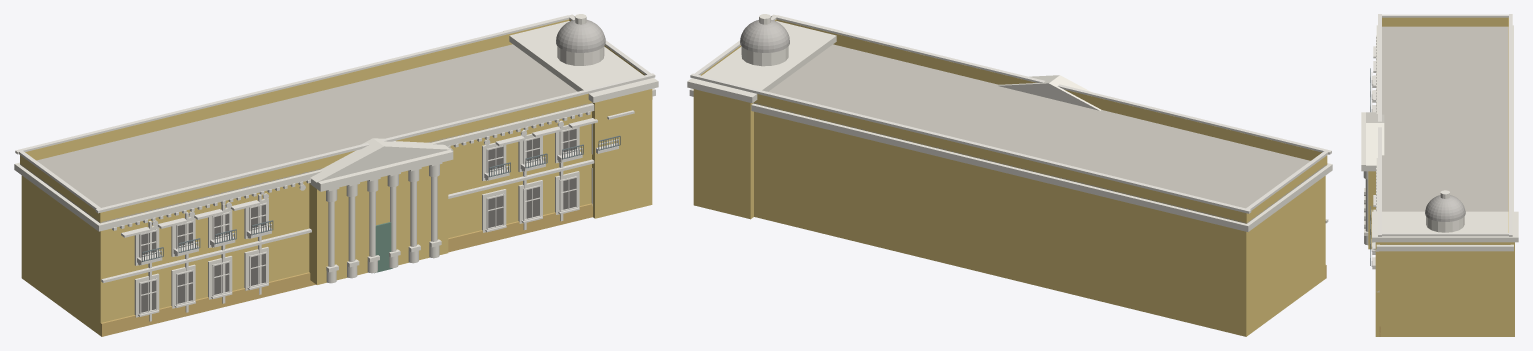
Rendered from antigua-aduana.glb.
3 views of the same model, side by side, from view 1: azimuth 30°, elevation 25°; view 2: azimuth 150°, elevation 25°; view 3: azimuth 270°, elevation 25° (orthographic). The views are drawn at different scales.
Parts seen in each view (by area): view 1: antigua-aduana · Parapeto continuo, antigua-aduana · Cuerpo largo de dos plantas, antigua-aduana · Pórtico central, antigua-aduana · Pabellón de esquina, antigua-aduana · Muro de Parapeto continuo, antigua-aduana · Zócalo corrido, antigua-aduana · Muro de Parapeto continuo (3), antigua-aduana · Cornisa del pabellón, antigua-aduana · Cornisa continua, antigua-aduana · Albardilla longitudinal (2), antigua-aduana · Albardilla longitudinal, antigua-aduana · Frontón bajo del pórtico (+23 smaller); view 2: antigua-aduana · Cuerpo largo de dos plantas, antigua-aduana · Parapeto continuo, antigua-aduana · Pabellón de esquina, antigua-aduana · Muro de Parapeto continuo, antigua-aduana · Cornisa continua, antigua-aduana · Muro de Parapeto continuo (3), antigua-aduana · Cornisa del pabellón, antigua-aduana · Albardilla longitudinal, antigua-aduana · Albardilla longitudinal (2), antigua-aduana · Frontón bajo del pórtico, antigua-aduana · Cúpula documentada, antigua-aduana · Muro de Parapeto continuo (2) (+2 smaller); view 3: antigua-aduana · Parapeto continuo, antigua-aduana · Cuerpo largo de dos plantas, antigua-aduana · Pabellón de esquina, antigua-aduana · Cornisa del pabellón, antigua-aduana · Cornisa continua, antigua-aduana · Muro de Parapeto continuo (2), antigua-aduana · Albardilla longitudinal, antigua-aduana · Cúpula documentada, antigua-aduana · Albardilla longitudinal (2), antigua-aduana · Frontón bajo del pórtico, antigua-aduana · Albardilla transversal, antigua-aduana · Albardilla transversal (2) (+6 smaller).
Part boxes in pixels (bbox=[...]): antigua-aduana · Parapeto continuo: bbox=[20, 44, 592, 222]; antigua-aduana · Cuerpo largo de dos plantas: bbox=[21, 111, 591, 335]; antigua-aduana · Pórtico central: bbox=[309, 161, 448, 284]; antigua-aduana · Pabellón de esquina: bbox=[592, 89, 652, 218]; antigua-aduana · Muro de Parapeto continuo: bbox=[20, 19, 569, 163]; antigua-aduana · Zócalo corrido: bbox=[100, 203, 592, 336]; antigua-aduana · Muro de Parapeto continuo (3): bbox=[99, 93, 592, 223]; antigua-aduana · Cornisa del pabellón: bbox=[503, 15, 658, 102]; antigua-aduana · Cornisa continua: bbox=[14, 88, 655, 231]; antigua-aduana · Albardilla longitudinal (2): bbox=[95, 73, 655, 213]; antigua-aduana · Albardilla longitudinal: bbox=[15, 14, 574, 154]; antigua-aduana · Frontón bajo del pórtico: bbox=[310, 138, 450, 182]; antigua-aduana · Cuerpo largo de dos plantas: bbox=[754, 111, 1325, 336]; antigua-aduana · Parapeto continuo: bbox=[753, 44, 1326, 223]; antigua-aduana · Pabellón de esquina: bbox=[693, 89, 753, 219]; antigua-aduana · Muro de Parapeto continuo: bbox=[753, 94, 1247, 223]; antigua-aduana · Cornisa continua: bbox=[689, 88, 1332, 231]; antigua-aduana · Muro de Parapeto continuo (3): bbox=[776, 19, 1327, 165]; antigua-aduana · Cornisa del pabellón: bbox=[687, 15, 842, 103]; antigua-aduana · Albardilla longitudinal: bbox=[690, 73, 1251, 213]; antigua-aduana · Albardilla longitudinal (2): bbox=[771, 14, 1331, 154]; antigua-aduana · Frontón bajo del pórtico: bbox=[998, 75, 1101, 110]; antigua-aduana · Cúpula documentada: bbox=[740, 20, 789, 52]; antigua-aduana · Muro de Parapeto continuo (2): bbox=[1246, 156, 1327, 223]; antigua-aduana · Parapeto continuo: bbox=[1382, 26, 1508, 244]; antigua-aduana · Cuerpo largo de dos plantas: bbox=[1381, 251, 1509, 336]; antigua-aduana · Pabellón de esquina: bbox=[1375, 242, 1514, 336]; antigua-aduana · Cornisa del pabellón: bbox=[1372, 211, 1518, 242]; antigua-aduana · Cornisa continua: bbox=[1376, 25, 1513, 251]; antigua-aduana · Muro de Parapeto continuo (2): bbox=[1382, 17, 1508, 26]; antigua-aduana · Albardilla longitudinal: bbox=[1509, 14, 1512, 236]; antigua-aduana · Cúpula documentada: bbox=[1425, 195, 1465, 221]; antigua-aduana · Albardilla longitudinal (2): bbox=[1378, 14, 1381, 236]; antigua-aduana · Frontón bajo del pórtico: bbox=[1366, 112, 1384, 165]; antigua-aduana · Albardilla transversal: bbox=[1380, 14, 1509, 17]; antigua-aduana · Albardilla transversal (2): bbox=[1381, 233, 1508, 236].
Bounding box in the file's own units: 48.8 × 13.73 × 14.7.
